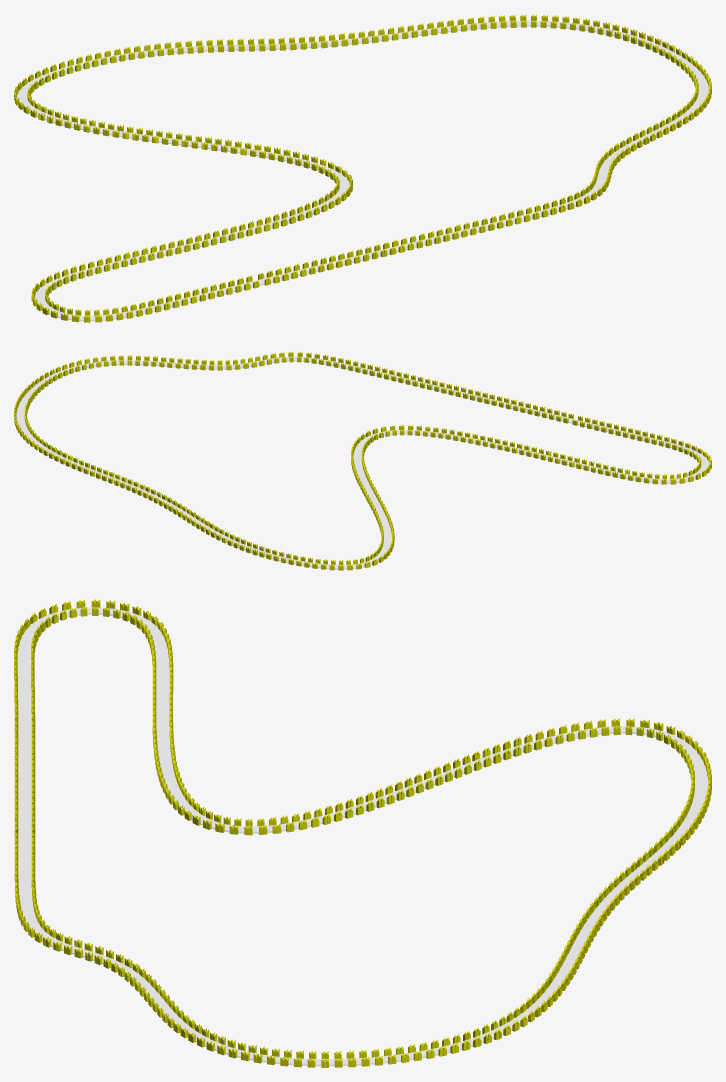
The model's file is pistaBasicaAmarelinha5.gltf.
3 views of the same model, one above another, from view 1: azimuth 30°, elevation 25°; view 2: azimuth 150°, elevation 25°; view 3: azimuth 270°, elevation 25° (orthographic). The views are drawn at different scales.
Visible parts, largest first — view 1: Cube.001; view 2: Cube.001; view 3: Cube.001.
Boxes of the visible parts, x1,y1,x2,y2 form: Cube.001: (14, 14, 711, 322); Cube.001: (14, 351, 711, 570); Cube.001: (14, 599, 711, 1067).
Bounding box in the file's own units: 0.742 × 0.00632 × 0.4754.
